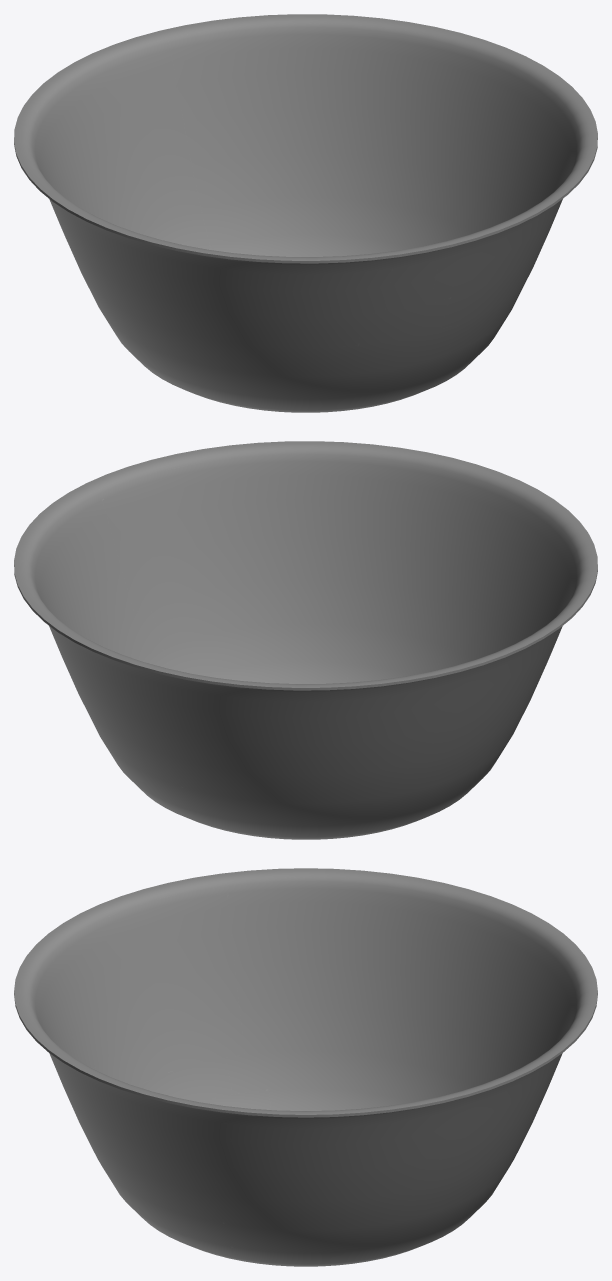
File: tray5.fbx
3 renders of one model, top to bottom at view 1: azimuth 30°, elevation 25°; view 2: azimuth 150°, elevation 25°; view 3: azimuth 270°, elevation 25°, orthographic.
Visible parts, largest first — view 1: Medical_Trays.006; view 2: Medical_Trays.006; view 3: Medical_Trays.006.
Boxes of the visible parts, x1,y1,x2,y2 form: Medical_Trays.006: (14, 14, 597, 412); Medical_Trays.006: (14, 441, 597, 839); Medical_Trays.006: (14, 868, 597, 1266).
Bounding box in the file's own units: 1077 × 427 × 1077.
1 material, 1 textured.
